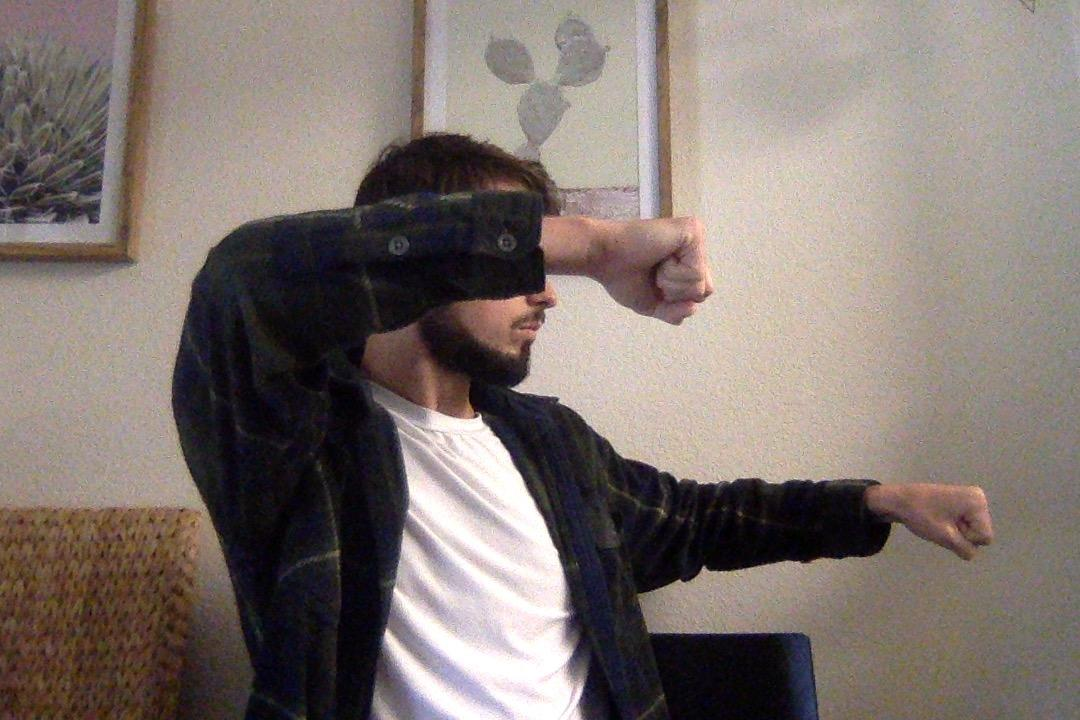Right-Fist: (873, 475, 992, 569)
